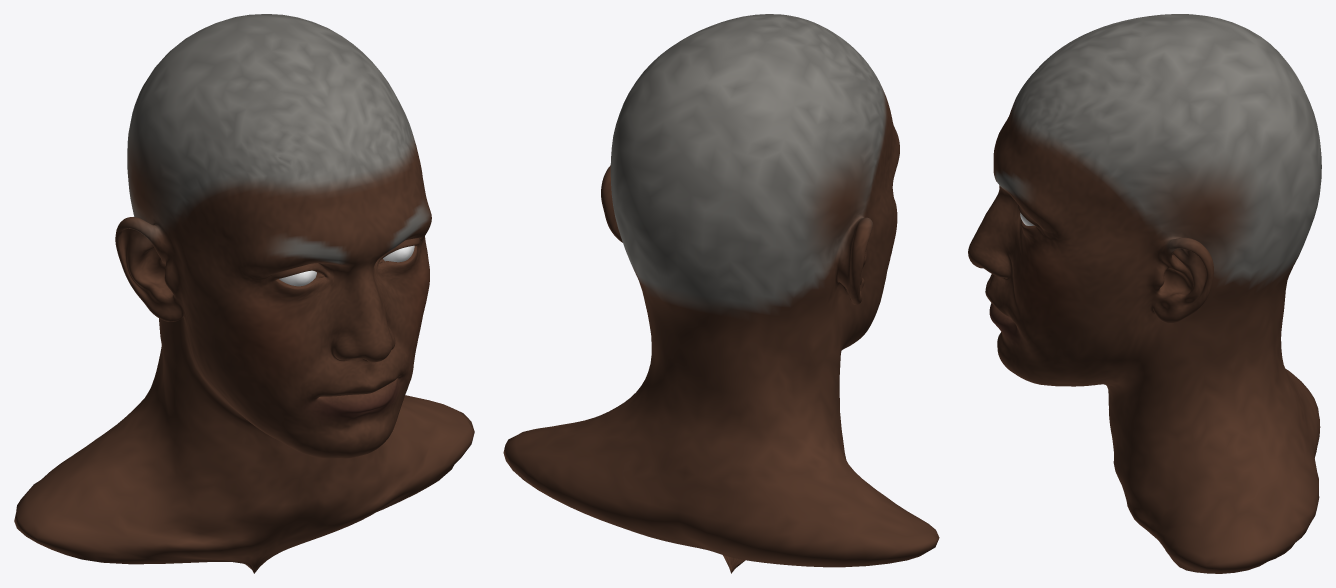
Rendered from mann.glb.
The picture shows the model from 3 angles, left to right: view 1: azimuth 30°, elevation 25°; view 2: azimuth 150°, elevation 25°; view 3: azimuth 270°, elevation 25°; orthographic projection. The views are drawn at different scales.
Visible parts, largest first — view 1: head; view 2: head; view 3: head.
Boxes of the visible parts, <box> form: head: <box>14,14,474,573</box>; head: <box>503,14,939,573</box>; head: <box>968,14,1321,573</box>.
Bounding box in the file's own units: 0.3039 × 0.3629 × 0.2219.
